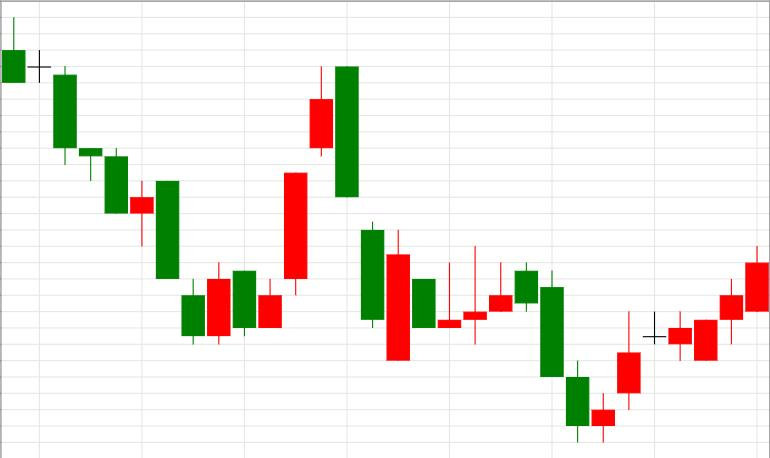bearish_engulfing_fall: (208, 66, 359, 345)
